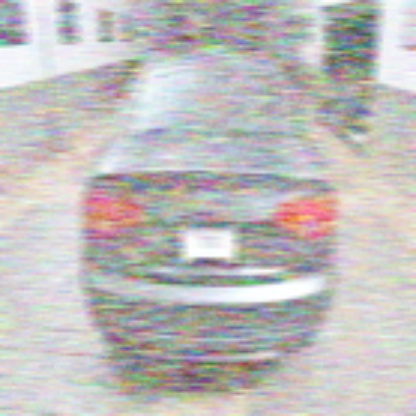Vehicle: (83, 45, 339, 382)
